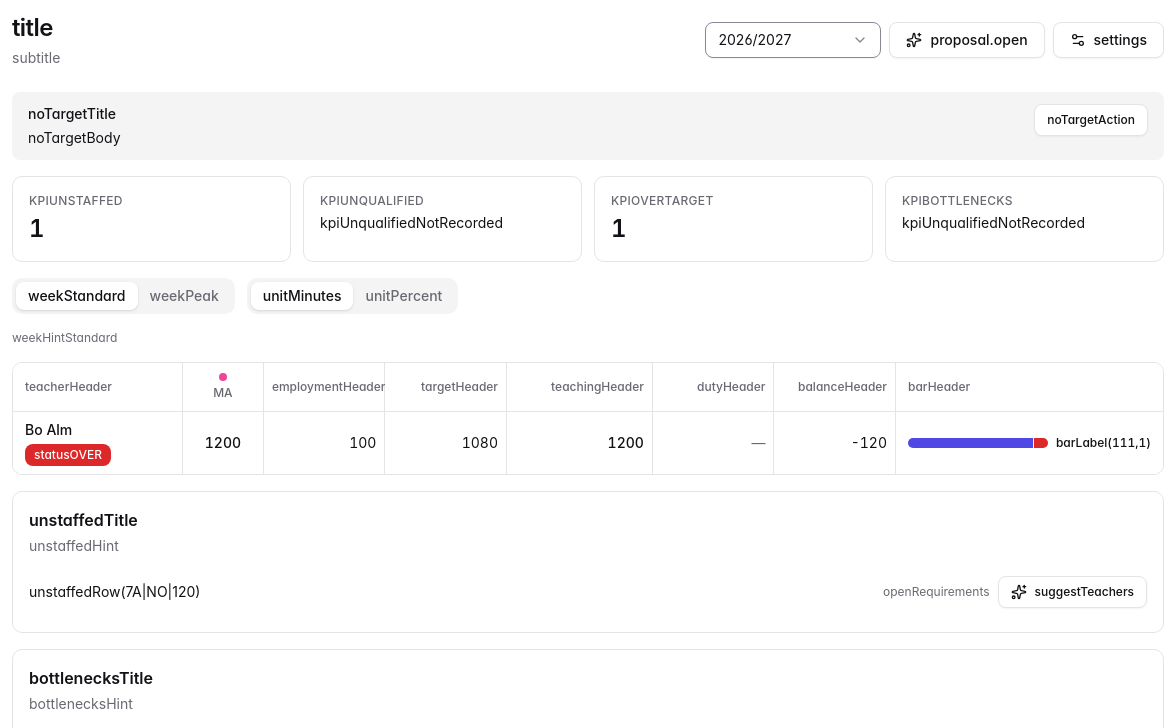
Test case: StaffingPage › switches the matrix between standardvecka and toppvecka, and minutes and percent
Expected: the 1st cell "1200" is shown, x1=182 y1=412 x2=263 y2=474
Expected: the column heading "teachingHeader" is shown, x1=506 y1=363 x2=652 y2=412
Click the tab "weekPeak": (184, 296) x1=138 y1=282 x2=231 y2=310
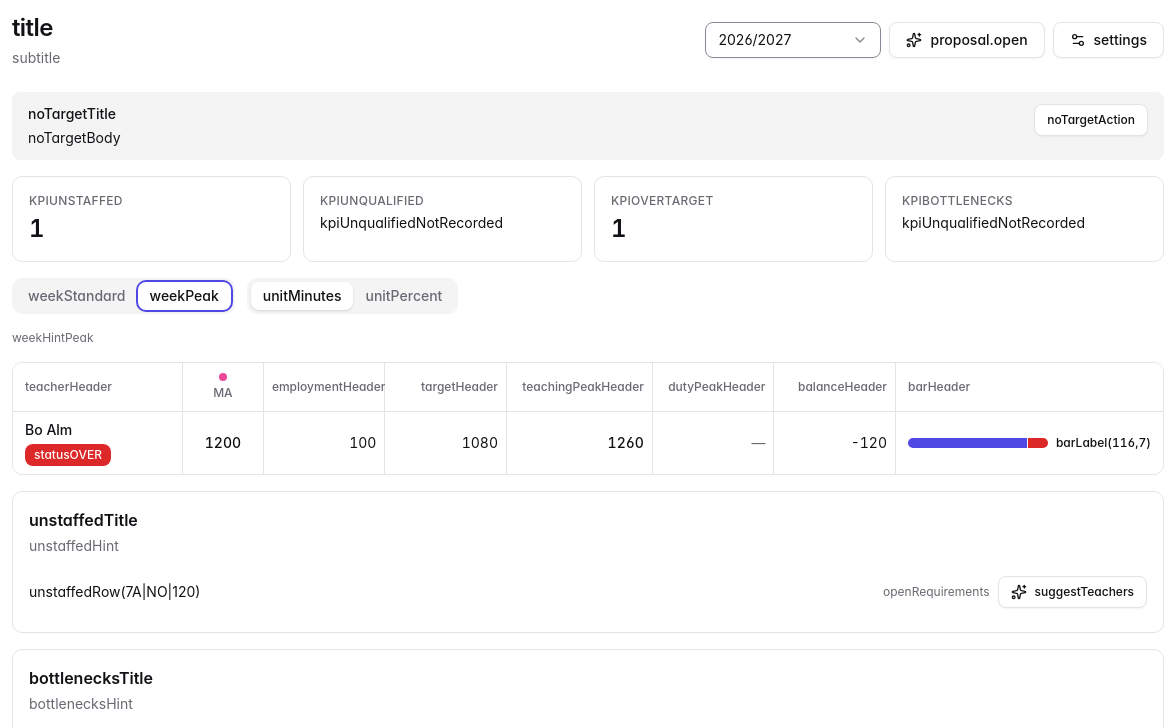
Result: the column heading "teachingPeakHeader" is shown at x1=506 y1=363 x2=652 y2=412
Result: the cell "1260" is shown at x1=506 y1=412 x2=652 y2=474
Result: the text "weekHintPeak" is shown at x1=12 y1=330 x2=94 y2=345
Click the tab "unitPercent": (404, 296) x1=354 y1=282 x2=454 y2=310
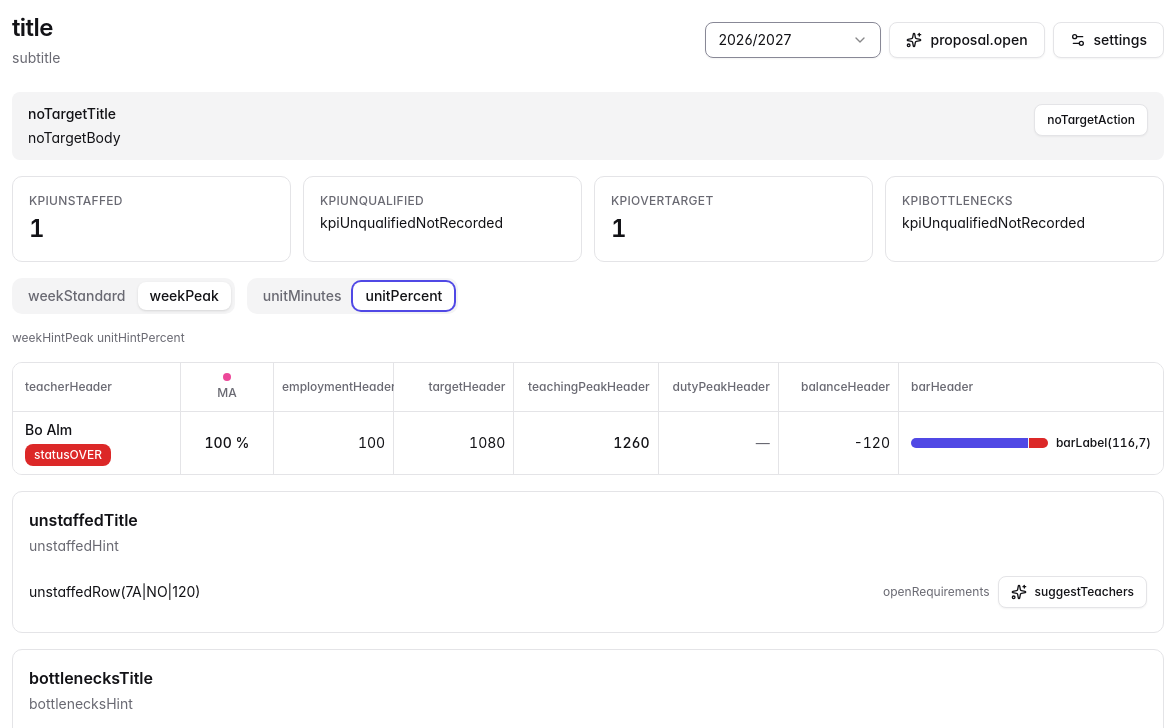
Result: the cell "100 %" is shown at x1=180 y1=412 x2=274 y2=474
